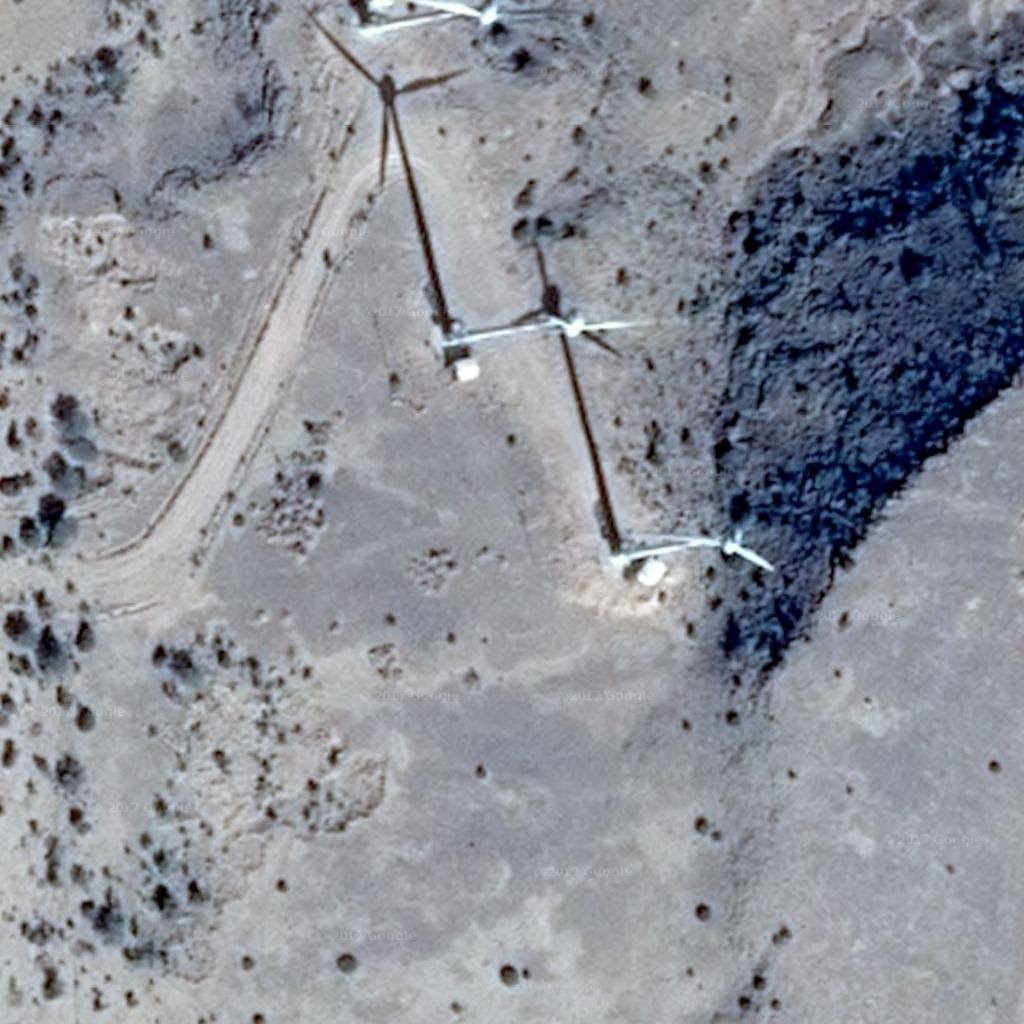Windmill: (304, 13, 481, 347)
